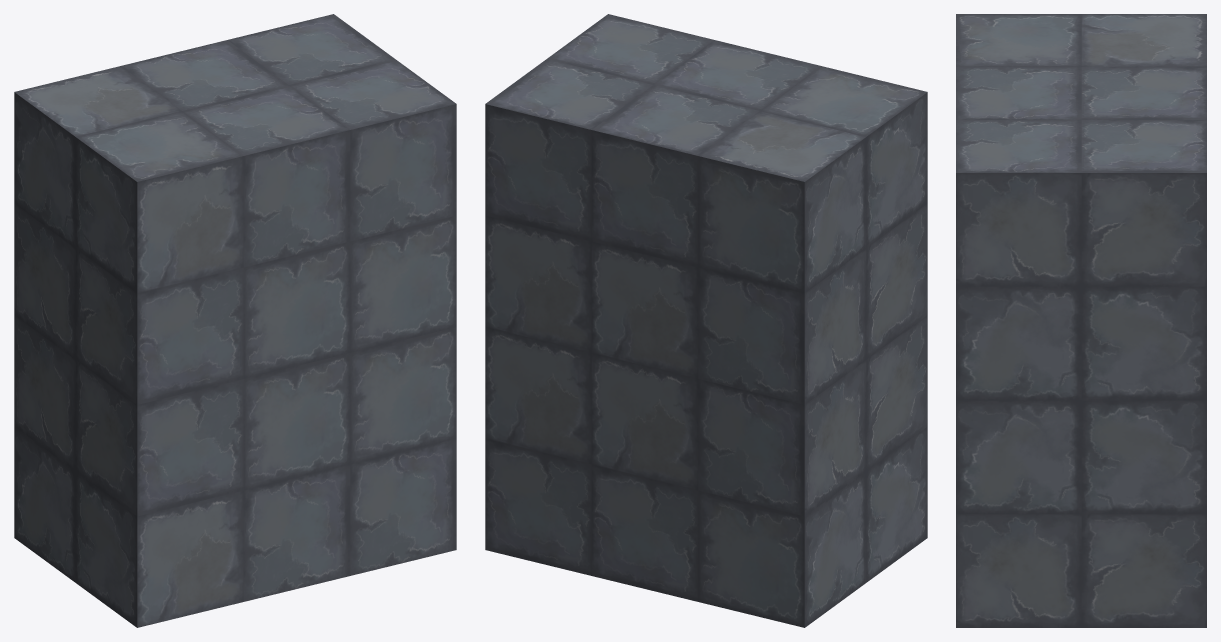
The model's file is Castle Block 3x2x4.fbx.
The picture shows the model from 3 angles, left to right: view 1: azimuth 30°, elevation 25°; view 2: azimuth 150°, elevation 25°; view 3: azimuth 270°, elevation 25°; orthographic projection. The views are drawn at different scales.
Parts seen in each view (by area): view 1: Castle Block 3x2x4; view 2: Castle Block 3x2x4; view 3: Castle Block 3x2x4.
Boxes of the visible parts, bbox=[...] form: Castle Block 3x2x4: bbox=[14, 14, 456, 627]; Castle Block 3x2x4: bbox=[485, 14, 927, 627]; Castle Block 3x2x4: bbox=[956, 14, 1206, 627].
Bounding box in the file's own units: 2.25 × 3 × 1.5.
